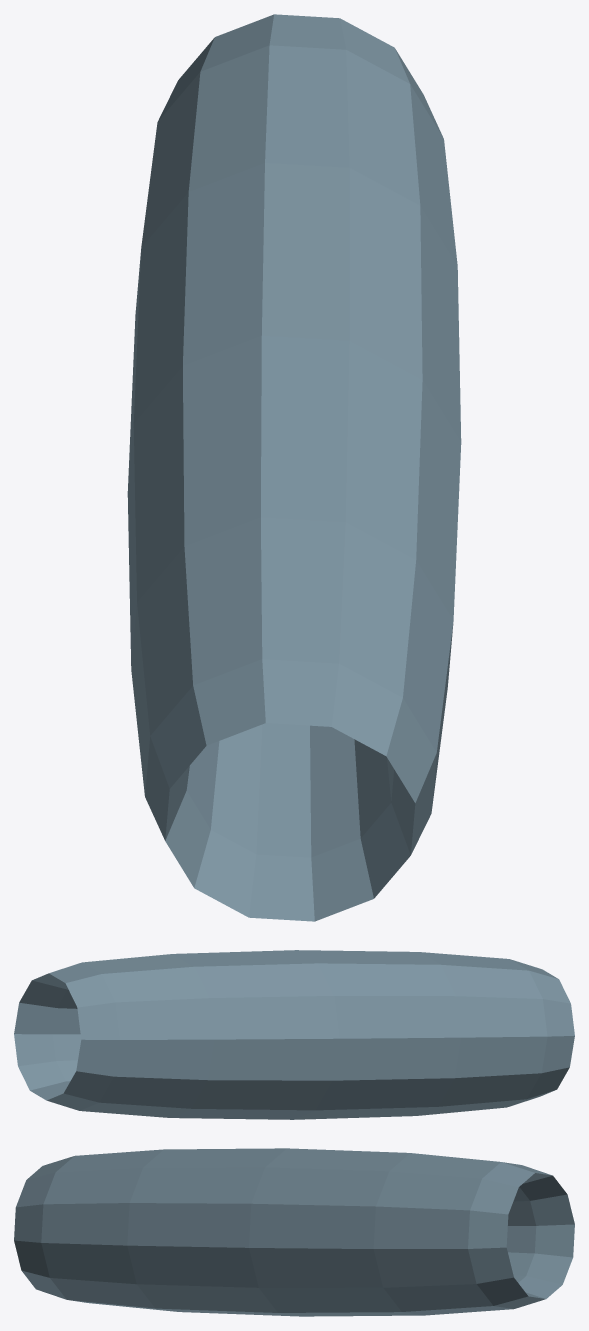
Rendered from astronaut_spawn_group2056735301_lev4.glb.
3 views of the same model, one above another, from view 1: azimuth 30°, elevation 25°; view 2: azimuth 150°, elevation 25°; view 3: azimuth 270°, elevation 25° (orthographic). The views are drawn at different scales.
Visible parts, largest first — view 1: astronaut_spawn_group2056735301_lev4; view 2: astronaut_spawn_group2056735301_lev4; view 3: astronaut_spawn_group2056735301_lev4.
Boxes of the visible parts, bbox=[...] form: astronaut_spawn_group2056735301_lev4: bbox=[127, 14, 461, 921]; astronaut_spawn_group2056735301_lev4: bbox=[14, 950, 574, 1119]; astronaut_spawn_group2056735301_lev4: bbox=[14, 1148, 574, 1316].
Size of the model in its own units: 0.1251 by 0.0796 by 0.1761.
